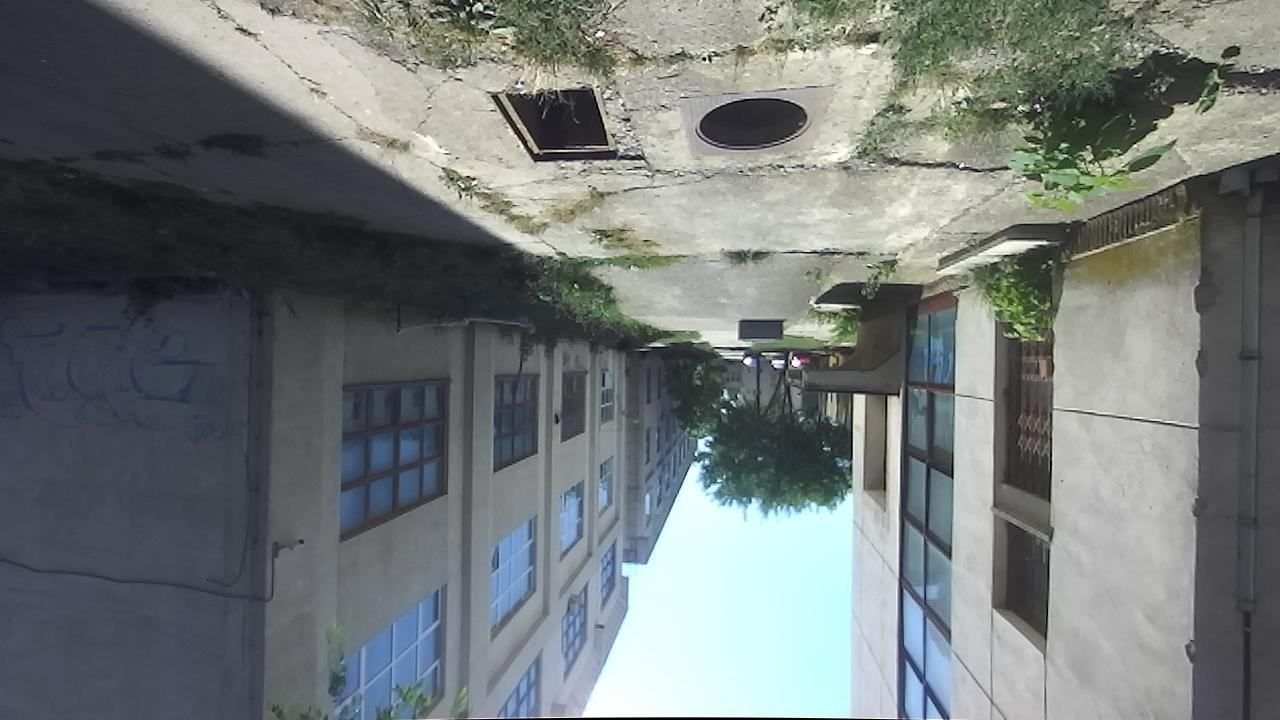drain: (482, 83, 621, 167), (690, 94, 818, 156)
